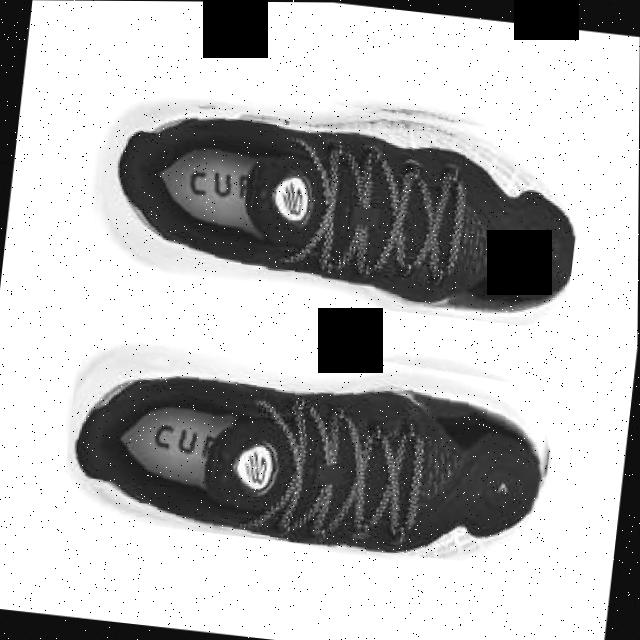shoe: (84, 69, 588, 329), (60, 311, 562, 569)
